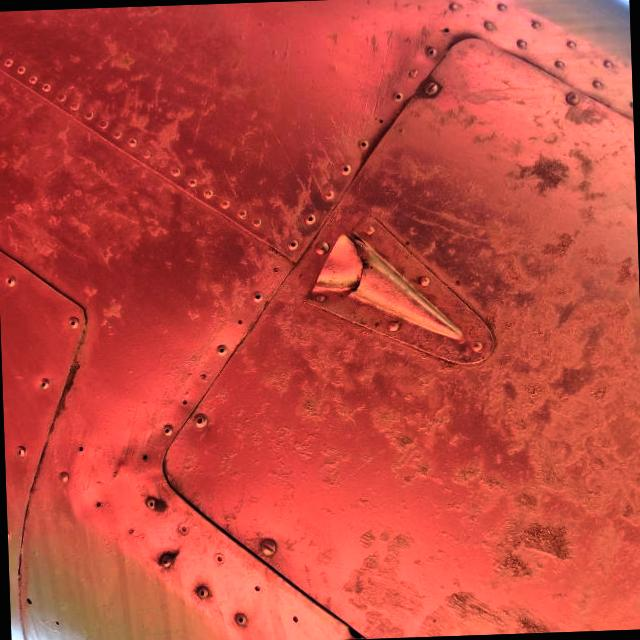crack: (293, 221, 385, 310)
